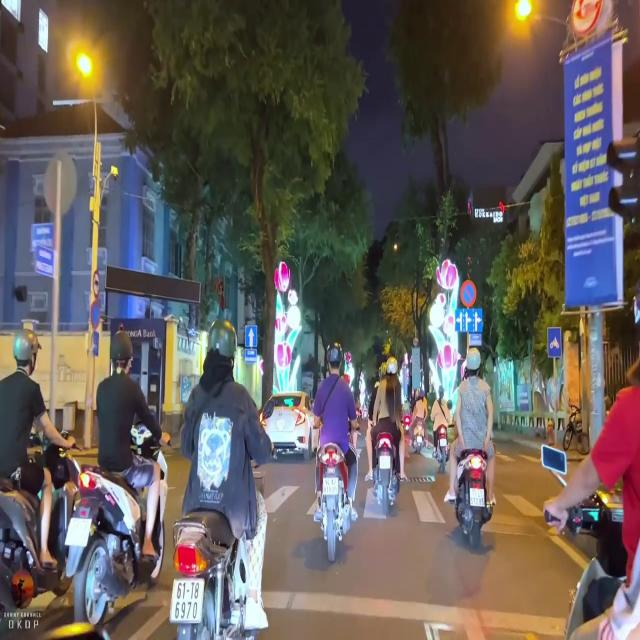bien_trang: (169, 574, 205, 627)
